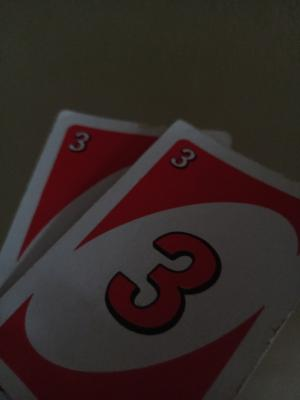num_3: (62, 123, 97, 159), (163, 144, 201, 173)
